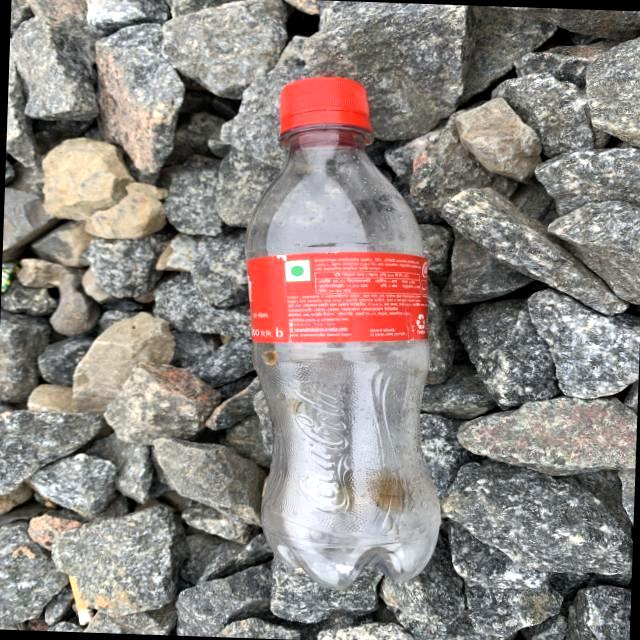bottle: (242, 72, 446, 590)
